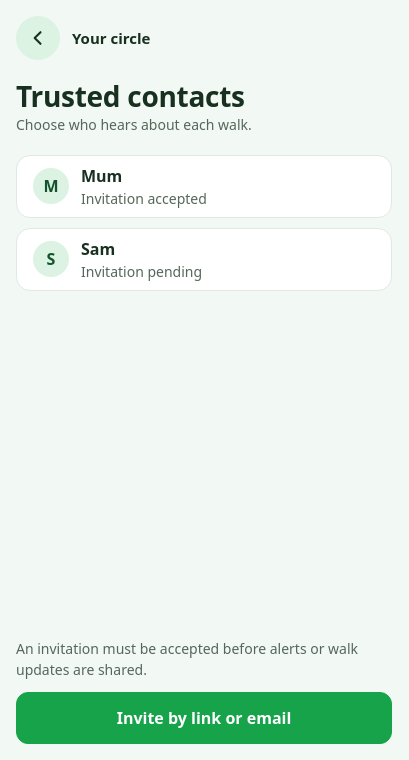
Test: tapping a contact shows their options, and Pause updates pauses them
Click the button "M Mum Invitation accepted": (204, 186) [17, 156, 391, 217]
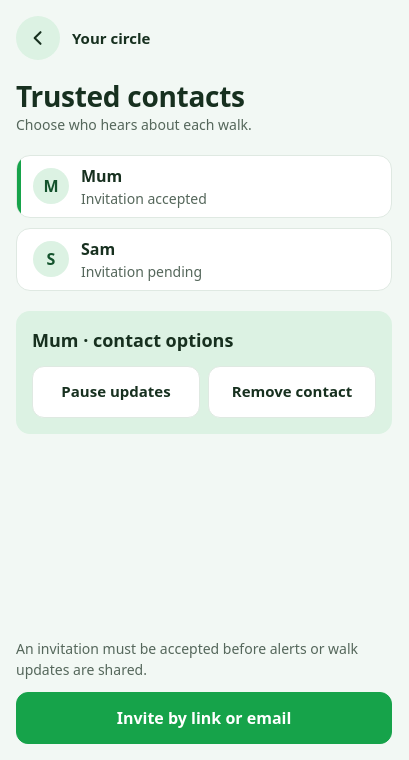
Click the button "Pause updates": (116, 392) [32, 366, 200, 418]
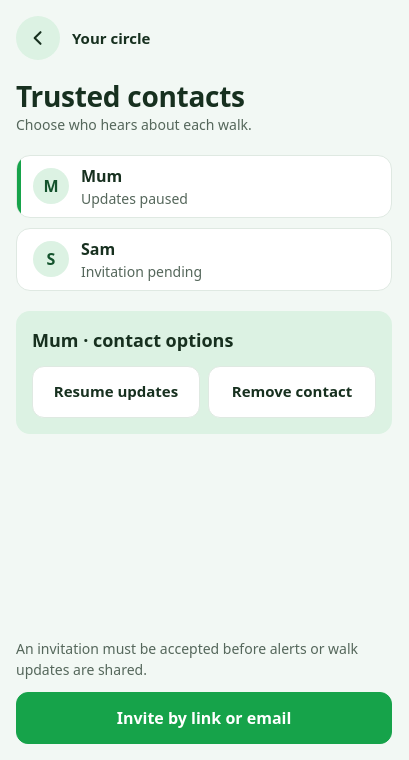
Now the button "M Mum Updates paused" is shown, box [17, 156, 391, 217]
